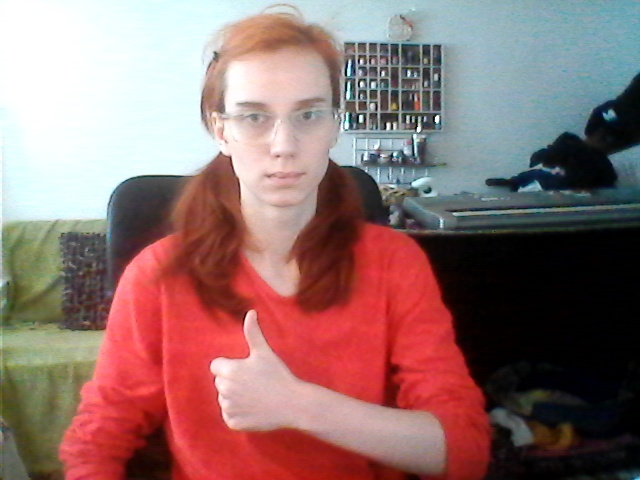jeden: (201, 307, 305, 436)
